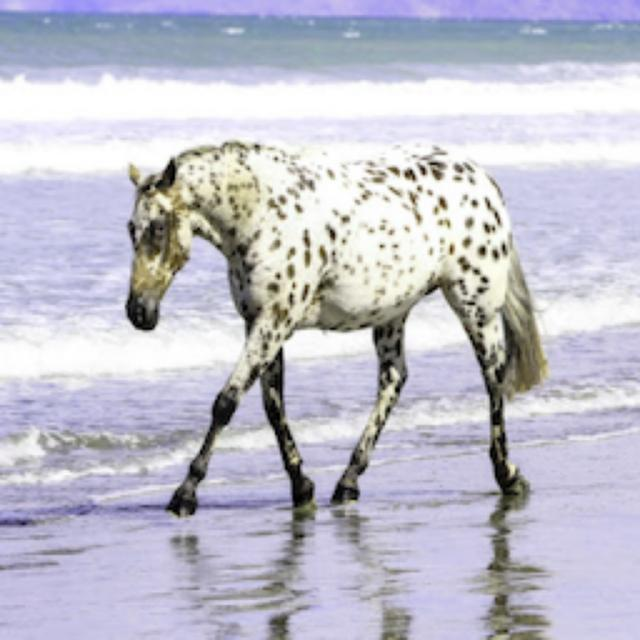Horse: (112, 130, 556, 522)
